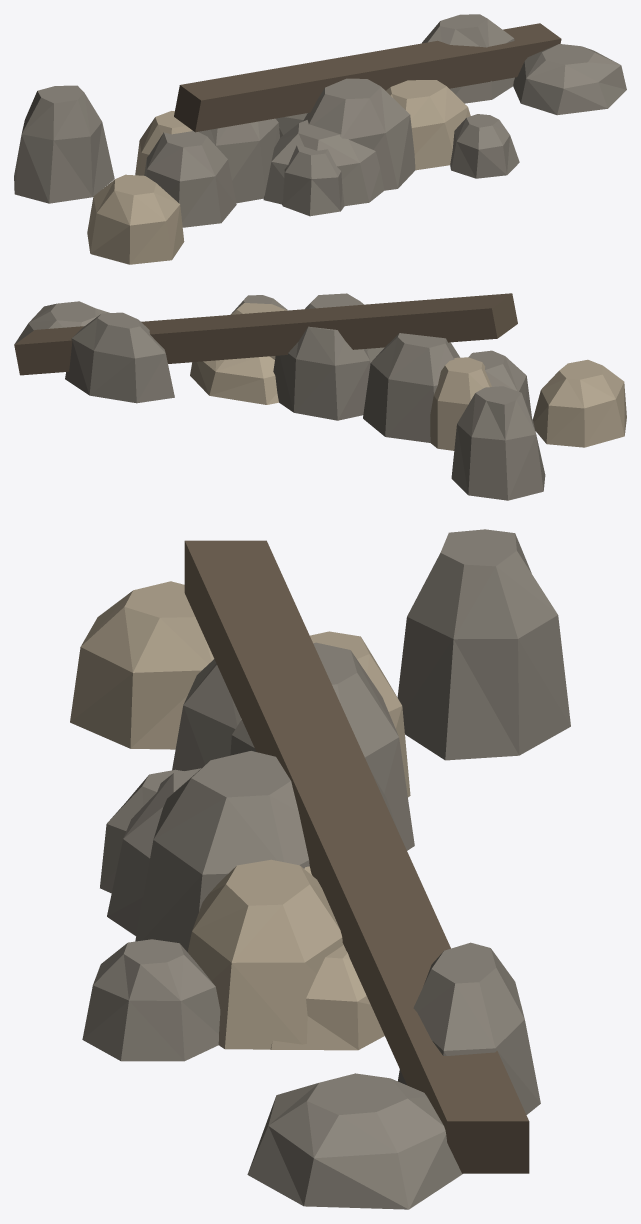
File: Decor_Rubble.fbx
3 renders of one model, top to bottom at view 1: azimuth 30°, elevation 25°; view 2: azimuth 150°, elevation 25°; view 3: azimuth 270°, elevation 25°, orthographic. The views are drawn at different scales.
Visible parts, largest first — view 1: Decor_Rubble; view 2: Decor_Rubble; view 3: Decor_Rubble.
Boxes of the visible parts, x1,y1,x2,y2 form: Decor_Rubble: (14, 14, 626, 264); Decor_Rubble: (14, 293, 626, 500); Decor_Rubble: (70, 529, 570, 1209).
Bounding box in the file's own units: 3.88 × 0.7979 × 1.53.
